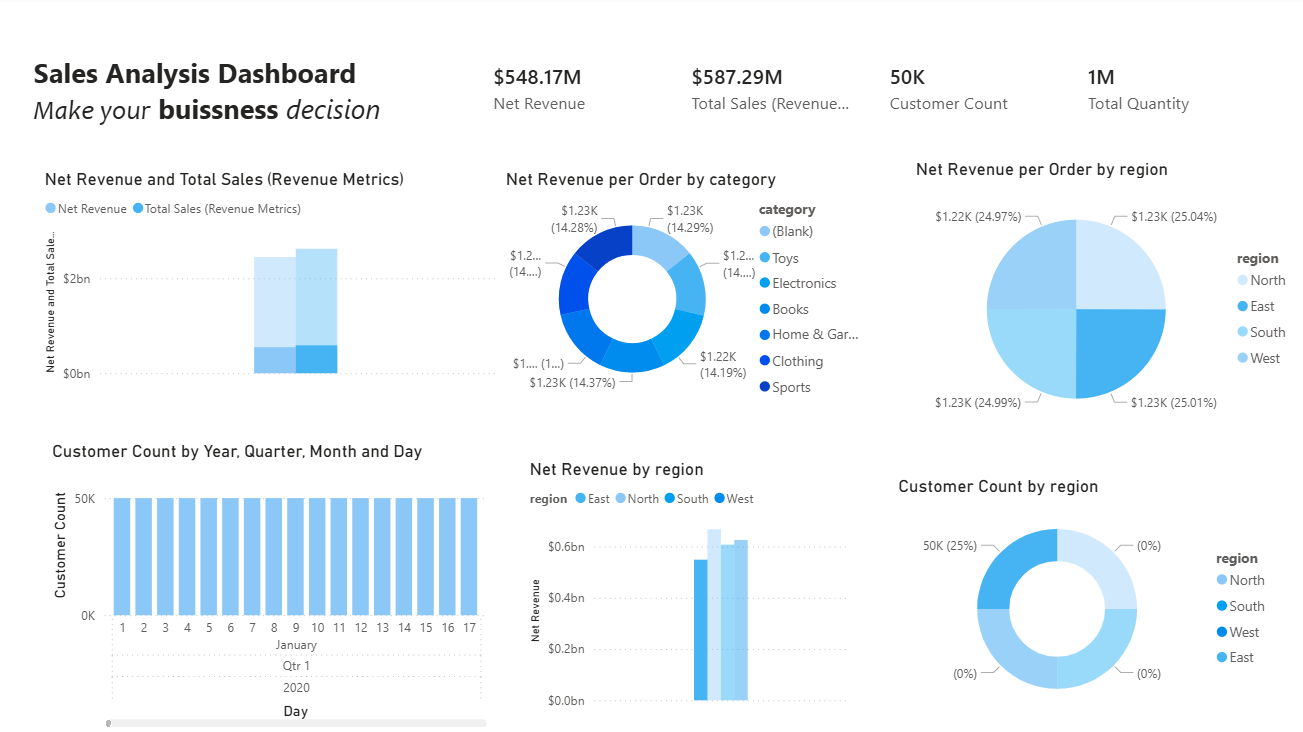

This screenshot's page, from the dashboard's own definition file:
{"tool":"powerbi","page":{"name":"Page 1","canvas":[1280,720],"ordinal":0},"visuals":[{"type":"textbox","box":[31.6,50.8,363.6,149.6],"z":0},{"type":"cardVisual","fields":{"Data":["_Measures.Net Revenue","_Measures.Total Sales (Revenue Metrics)","_Measures.Customer Count","_Measures.Total Quantity"]},"box":[456.9,35.7,802.7,108.4],"z":1000},{"type":"clusteredColumnChart","fields":{"Y":["_Measures.Net Revenue","_Measures.Total Sales (Revenue Metrics)"]},"box":[42.6,168.7,451,214.4],"z":2000},{"type":"clusteredColumnChart","fields":{"Y":["_Measures.Customer Count"],"Category":["dim_customers.registration_date.Variation.Date Hierarchy.Year","dim_customers.registration_date.Variation.Date Hierarchy.Quarter","dim_customers.registration_date.Variation.Date Hierarchy.Month","dim_customers.registration_date.Variation.Date Hierarchy.Day"]},"box":[50.5,435.2,435.2,285.4],"z":3000},{"type":"donutChart","fields":{"Y":["_Measures.Net Revenue per Order"],"Category":["dim_products.category"]},"box":[493.5,168.7,364.2,236.5],"z":4000},{"type":"pieChart","fields":{"Y":["_Measures.Net Revenue per Order"],"Category":["dim_sales_reps.region"]},"box":[895.6,159.3,384.7,275.9],"z":5000},{"type":"clusteredColumnChart","fields":{"Series":["dim_sales_reps.region"],"Y":["_Measures.Net Revenue"]},"box":[517.2,452.5,323.2,250.7],"z":6000},{"type":"donutChart","fields":{"Y":["_Measures.Customer Count"],"Category":["dim_sales_reps.region"]},"box":[878.2,469.9,381.6,241.2],"z":7000}]}

Visuals, with their boxes in screenshot pixels (x1, y1, x2, y2), scaled from the page's 1280x720 canvas onto the 1303x732 screenshot:
textbox: <region>32, 52, 402, 204</region>
cardVisual - _Measures.Net Revenue x _Measures.Total Sales (Revenue Metrics): <region>465, 36, 1282, 147</region>
clusteredColumnChart - _Measures.Net Revenue x _Measures.Total Sales (Revenue Metrics): <region>43, 172, 502, 389</region>
clusteredColumnChart - _Measures.Customer Count x dim_customers.registration_date.Variation.Date Hierarchy.Year: <region>51, 442, 494, 731</region>
donutChart - _Measures.Net Revenue per Order x dim_products.category: <region>502, 172, 873, 412</region>
pieChart - _Measures.Net Revenue per Order x dim_sales_reps.region: <region>912, 162, 1302, 442</region>
clusteredColumnChart - dim_sales_reps.region x _Measures.Net Revenue: <region>526, 460, 856, 715</region>
donutChart - _Measures.Customer Count x dim_sales_reps.region: <region>894, 478, 1282, 723</region>
